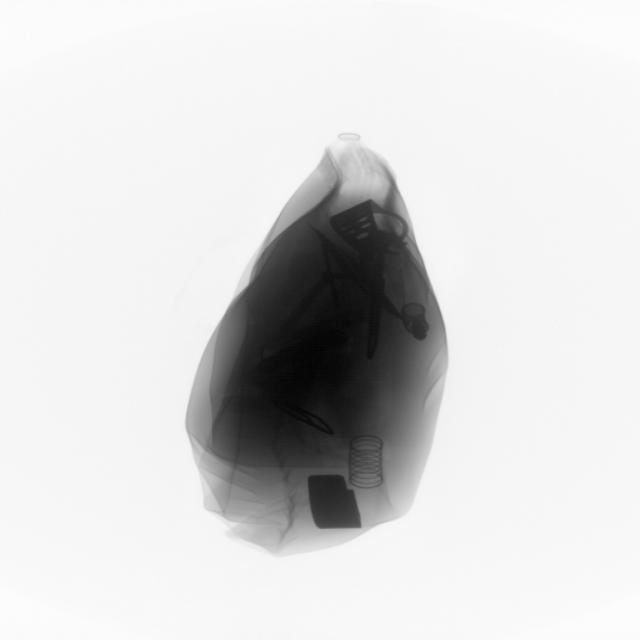BLADE: (363, 260, 385, 365)
